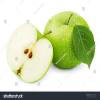Apple leaf: (71, 23, 97, 71)
